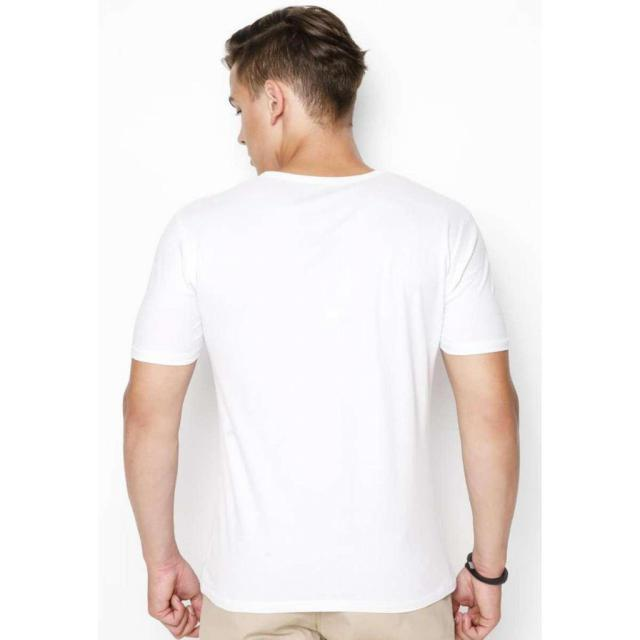Shirt: (123, 167, 504, 612)
